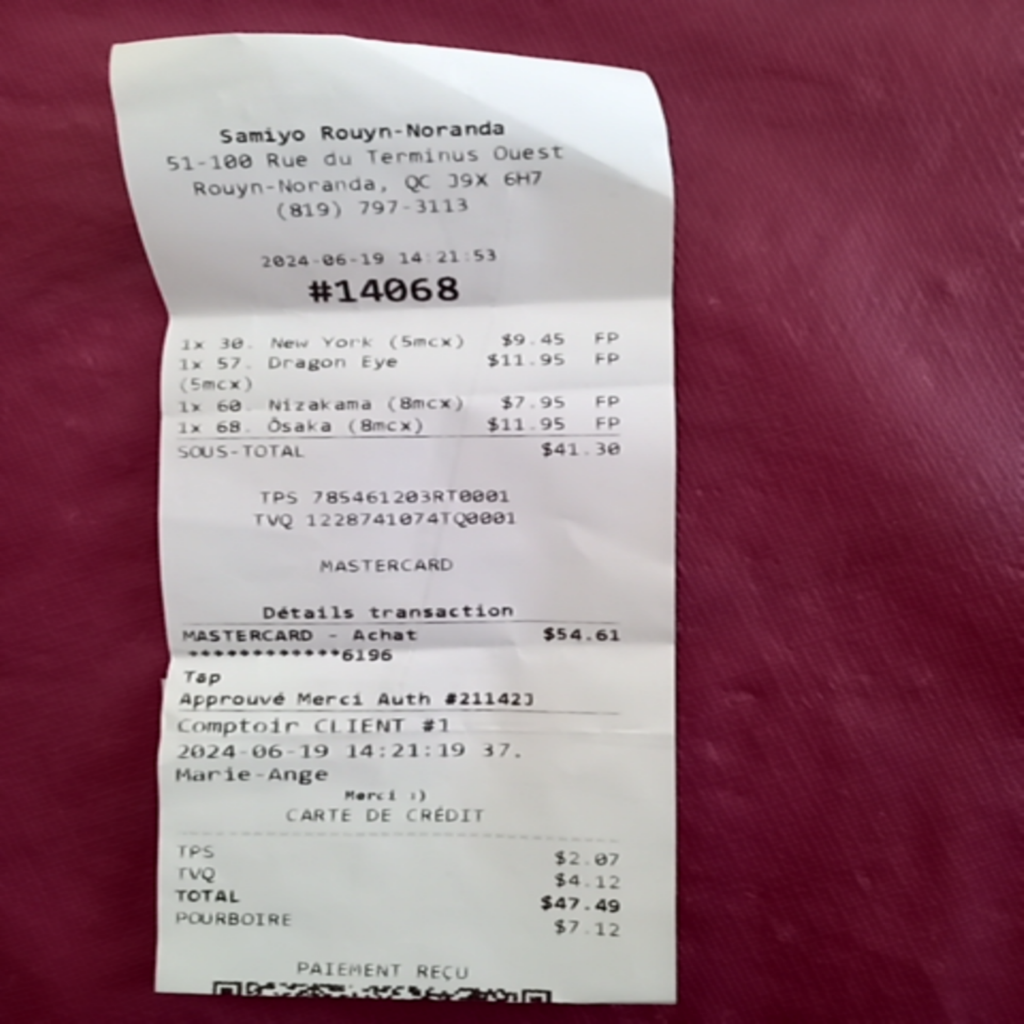recipt: (111, 32, 678, 1001)
